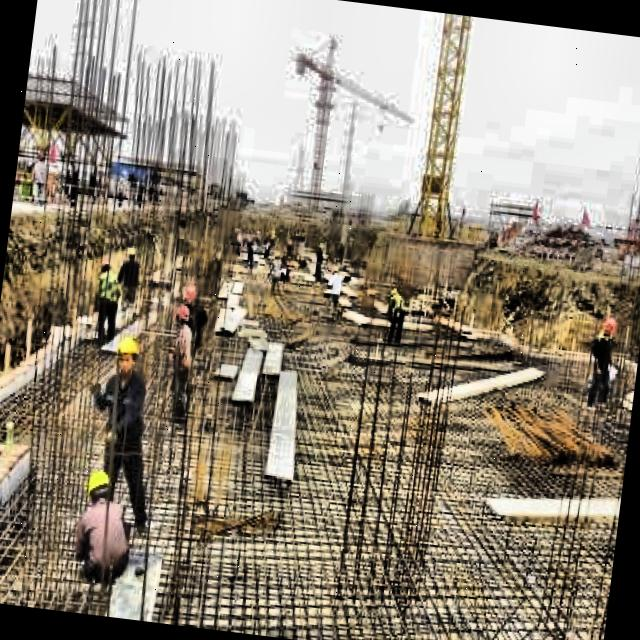helmet: (82, 466, 116, 512), (110, 334, 140, 376)
